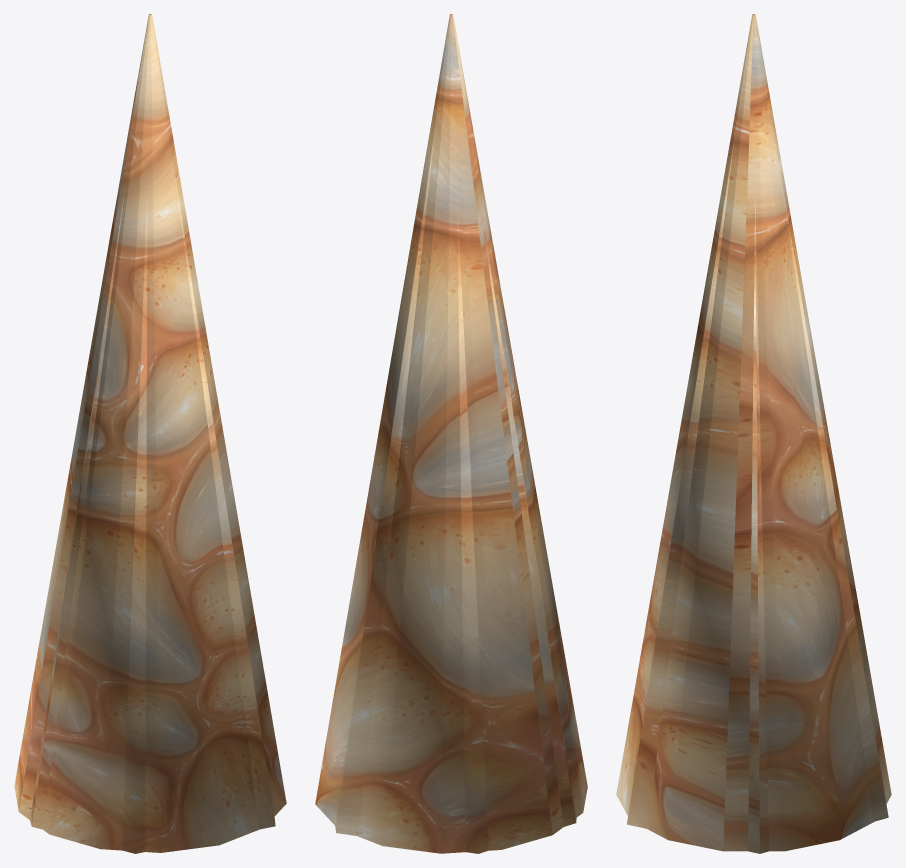
File: horn_basic.fbx
3 renders of one model, left to right at view 1: azimuth 30°, elevation 25°; view 2: azimuth 150°, elevation 25°; view 3: azimuth 270°, elevation 25°, orthographic.
Parts seen in each view (by area): view 1: horn_basic_VIS, horn_basic_COL; view 2: horn_basic_VIS, horn_basic_COL; view 3: horn_basic_VIS, horn_basic_COL.
Boxes of the visible parts, box(x1,y1,x2,y2) form: horn_basic_VIS: box(14, 14, 286, 852); horn_basic_COL: box(30, 140, 275, 853); horn_basic_VIS: box(315, 14, 587, 853); horn_basic_COL: box(335, 137, 576, 853); horn_basic_VIS: box(616, 14, 891, 851); horn_basic_COL: box(627, 139, 888, 853).
Size of the model in its own units: 16.32 by 50.02 by 16.
